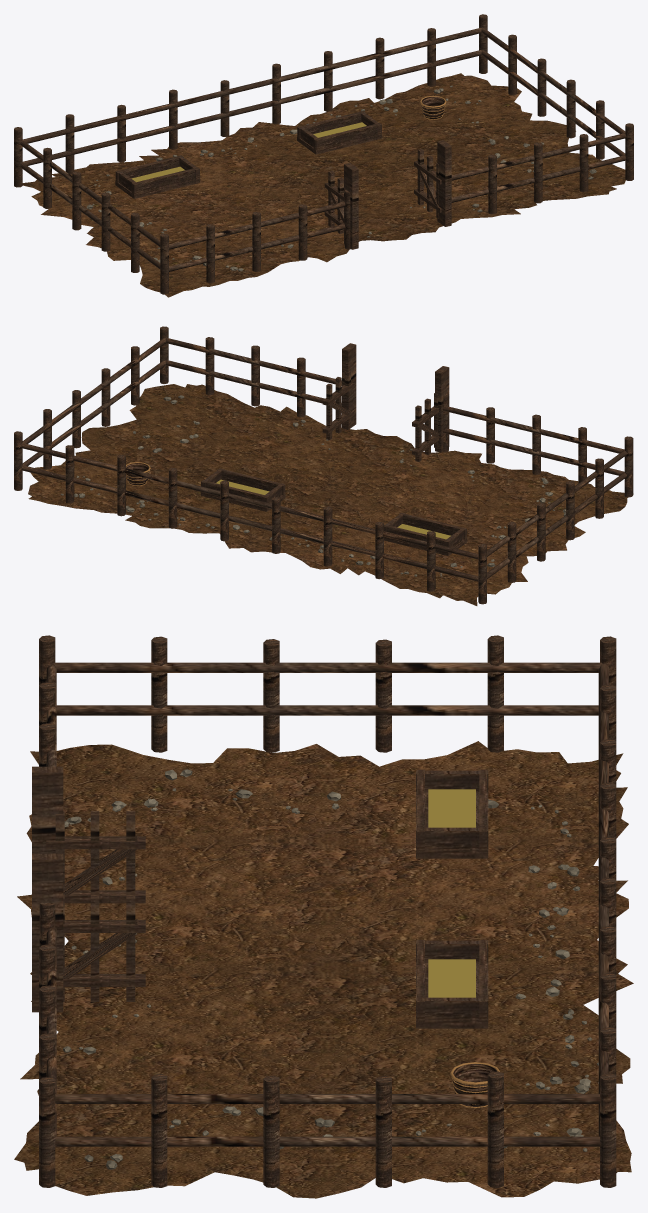
The model's file is pasture.glb.
3 renders of one model, top to bottom at view 1: azimuth 30°, elevation 25°; view 2: azimuth 150°, elevation 25°; view 3: azimuth 270°, elevation 25°, orthographic. The views are drawn at different scales.
Visible parts, largest first — view 1: part_0, part_2, part_1, part_3, part_4; view 2: part_0, part_2, part_1, part_3; view 3: part_0, part_2, part_1, part_3, part_4.
Part boxes in pixels (x1,y1,x2,y2): part_0: (22,73,625,297); part_2: (14,14,633,294); part_1: (86,85,596,271); part_3: (131,122,366,182); part_4: (421,96,444,119); part_0: (28,384,627,605); part_2: (14,326,633,604); part_1: (60,395,565,576); part_3: (216,479,450,539); part_0: (14,741,633,1198); part_2: (32,635,616,1187); part_1: (63,769,598,1169); part_3: (428,789,475,997); part_4: (452,1064,496,1106).
Size of the model in its own units: 7.59 by 1.22 by 4.35.
Materials: 6 (4 with a texture image).
